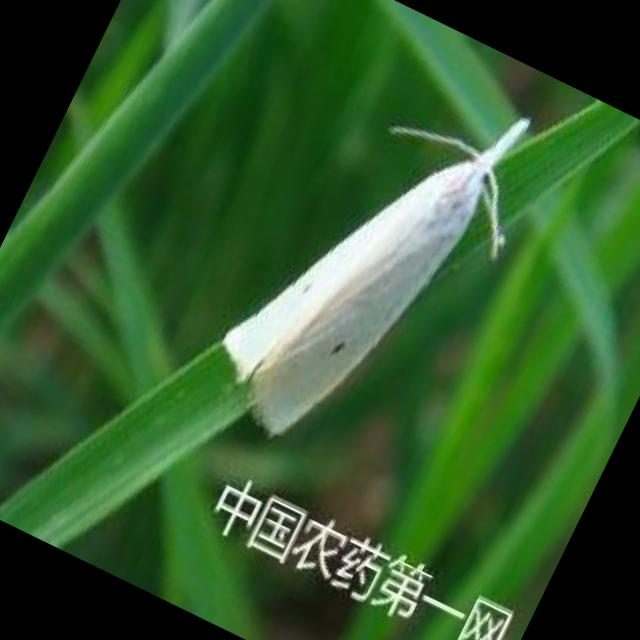stem-borer: (215, 110, 537, 450)
